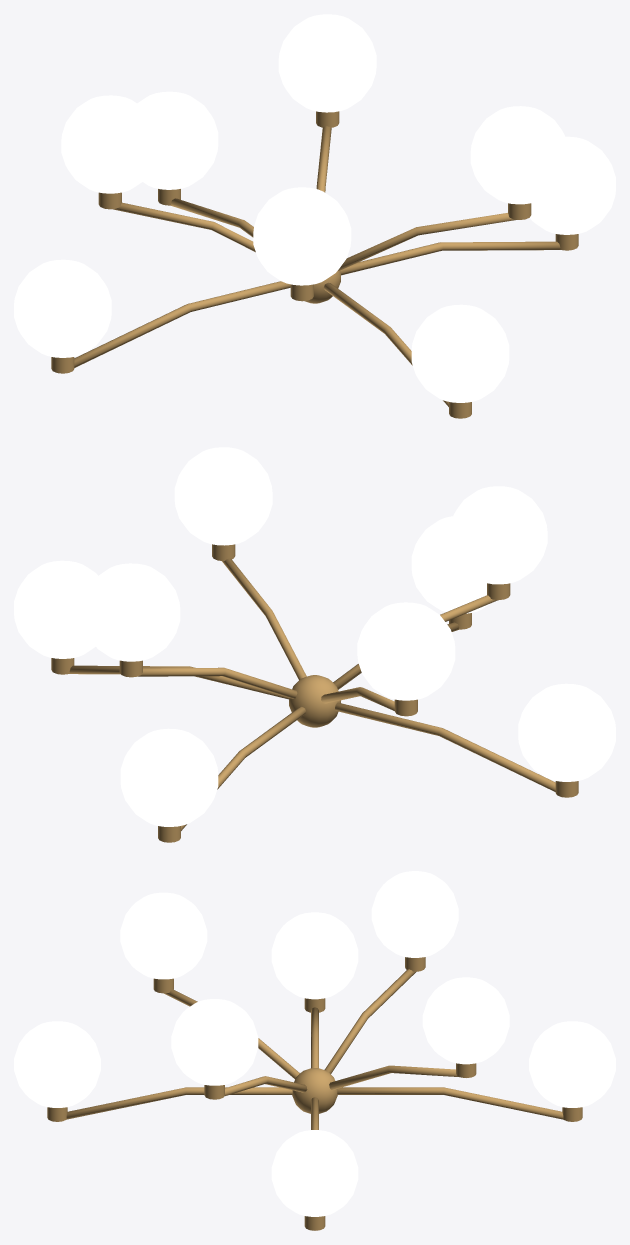
The model's file is chandelier.glb.
3 renders of one model, top to bottom at view 1: azimuth 30°, elevation 25°; view 2: azimuth 150°, elevation 25°; view 3: azimuth 270°, elevation 25°, orthographic. The views are drawn at different scales.
Visible parts, largest first — view 1: sphere.004, sphere.002, sphere.006, sphere.008, sphere.007, sphere.005, sphere.003, sphere.001, tube.004, tube, tube.007, tube.003 (+3 smaller); view 2: sphere.002, sphere.008, sphere.004, sphere.006, sphere.003, sphere.005, sphere.001, sphere.007, tube.004, sphere, tube.001, tube.007 (+4 smaller); view 3: sphere.002, sphere.005, sphere.006, sphere.004, sphere.008, sphere.003, sphere.007, sphere.001, tube.002, tube.006, sphere, tube.003 (+3 smaller).
Part boxes in pixels (left/top/right/bottom): sphere.004: left=61, top=95, right=159, bottom=193; sphere.002: left=278, top=14, right=376, bottom=112; sphere.006: left=253, top=187, right=351, bottom=285; sphere.008: left=470, top=106, right=568, bottom=204; sphere.007: left=411, top=304, right=509, bottom=402; sphere.005: left=14, top=259, right=111, bottom=357; sphere.003: left=137, top=91, right=218, bottom=189; sphere.001: left=530, top=136, right=615, bottom=234; tube.004: left=74, top=281, right=290, bottom=367; tube: left=340, top=241, right=560, bottom=275; tube.007: left=338, top=213, right=516, bottom=270; tube.003: left=113, top=202, right=255, bottom=252; sphere.002: left=82, top=563, right=180, bottom=661; sphere.008: left=174, top=447, right=272, bottom=545; sphere.004: left=357, top=602, right=455, bottom=700; sphere.006: left=449, top=486, right=547, bottom=584; sphere.003: left=120, top=728, right=218, bottom=826; sphere.005: left=518, top=683, right=615, bottom=781; sphere.001: left=14, top=560, right=97, bottom=658; sphere.007: left=411, top=516, right=490, bottom=613; tube.004: left=335, top=702, right=555, bottom=791; sphere: left=289, top=675, right=340, bottom=727; tube.001: left=138, top=667, right=297, bottom=698; tube.007: left=222, top=558, right=306, bottom=680; sphere.002: left=422, top=977, right=509, bottom=1064; sphere.005: left=271, top=912, right=358, bottom=999; sphere.006: left=120, top=892, right=207, bottom=979; sphere.004: left=371, top=871, right=458, bottom=957; sphere.008: left=171, top=999, right=258, bottom=1085; sphere.003: left=529, top=1021, right=615, bottom=1107; sphere.007: left=14, top=1021, right=100, bottom=1107; sphere.001: left=271, top=1130, right=358, bottom=1216; tube.002: left=337, top=1087, right=563, bottom=1119; tube.006: left=66, top=1087, right=292, bottom=1119; sphere: left=292, top=1068, right=337, bottom=1113; tube.003: left=324, top=969, right=416, bottom=1073.
Bounding box in the file's own units: 82.16 × 27.54 × 82.28.
